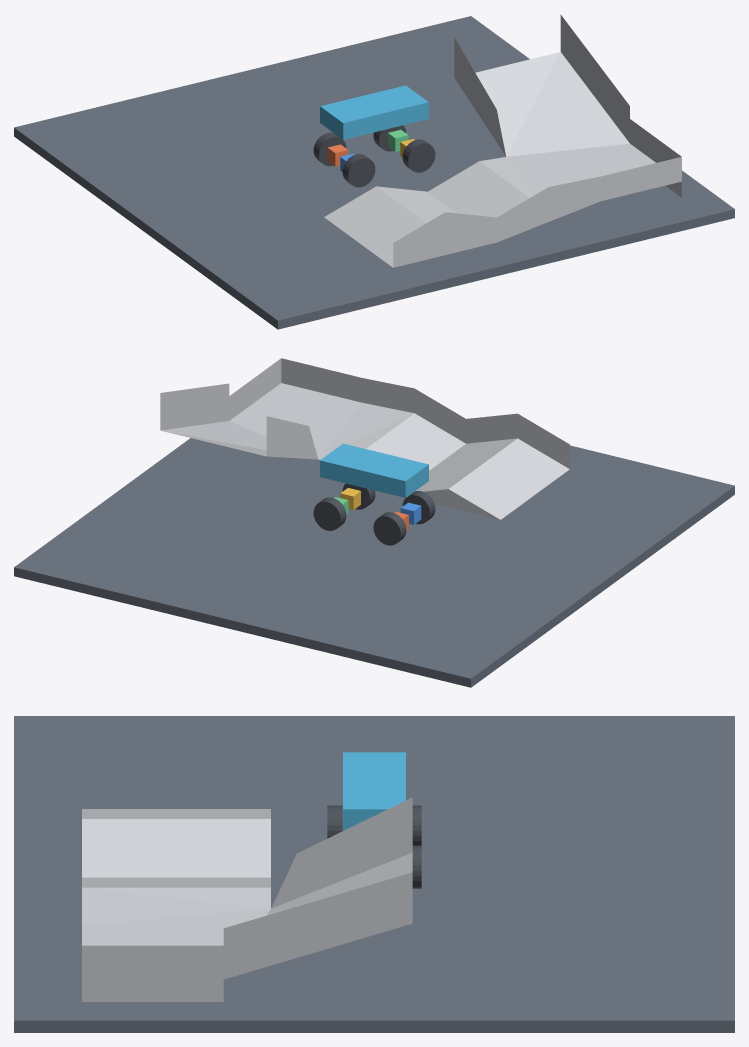
File: ConstraintMotorSpring.glb
The picture shows the model from 3 angles, top to bottom: view 1: azimuth 30°, elevation 25°; view 2: azimuth 150°, elevation 25°; view 3: azimuth 270°, elevation 25°; orthographic projection. The views are drawn at different scales.
Parts seen in each view (by area): view 1: Ground.001, Cube.009, MotorChassis.001, MotorWheelRightFront.001, MotorWheelRightRear.001, MotorWheelLeftRear.001; view 2: Ground.001, Cube.009, MotorChassis.001, MotorWheelLeftRear.001, MotorWheelLeftFront.001, MotorWheelRightRear.001; view 3: Ground.001, Cube.009, MotorChassis.001.
Part boxes in pixels (x1,y1,x2,y2): Ground.001: (14, 16, 734, 329); Cube.009: (324, 14, 681, 267); MotorChassis.001: (320, 85, 428, 139); MotorWheelRightFront.001: (402, 139, 435, 172); MotorWheelRightRear.001: (342, 154, 375, 187); MotorWheelLeftRear.001: (313, 132, 346, 166); Ground.001: (14, 438, 734, 687); Cube.009: (160, 358, 569, 519); MotorChassis.001: (320, 443, 428, 497); MotorWheelLeftRear.001: (373, 512, 406, 545); MotorWheelLeftFront.001: (313, 497, 346, 530); MotorWheelRightRear.001: (402, 491, 435, 524); Ground.001: (14, 716, 734, 1032); Cube.009: (82, 797, 412, 1001); MotorChassis.001: (343, 752, 405, 830).
Size of the model in its own units: 16 by 3.57 by 16.
